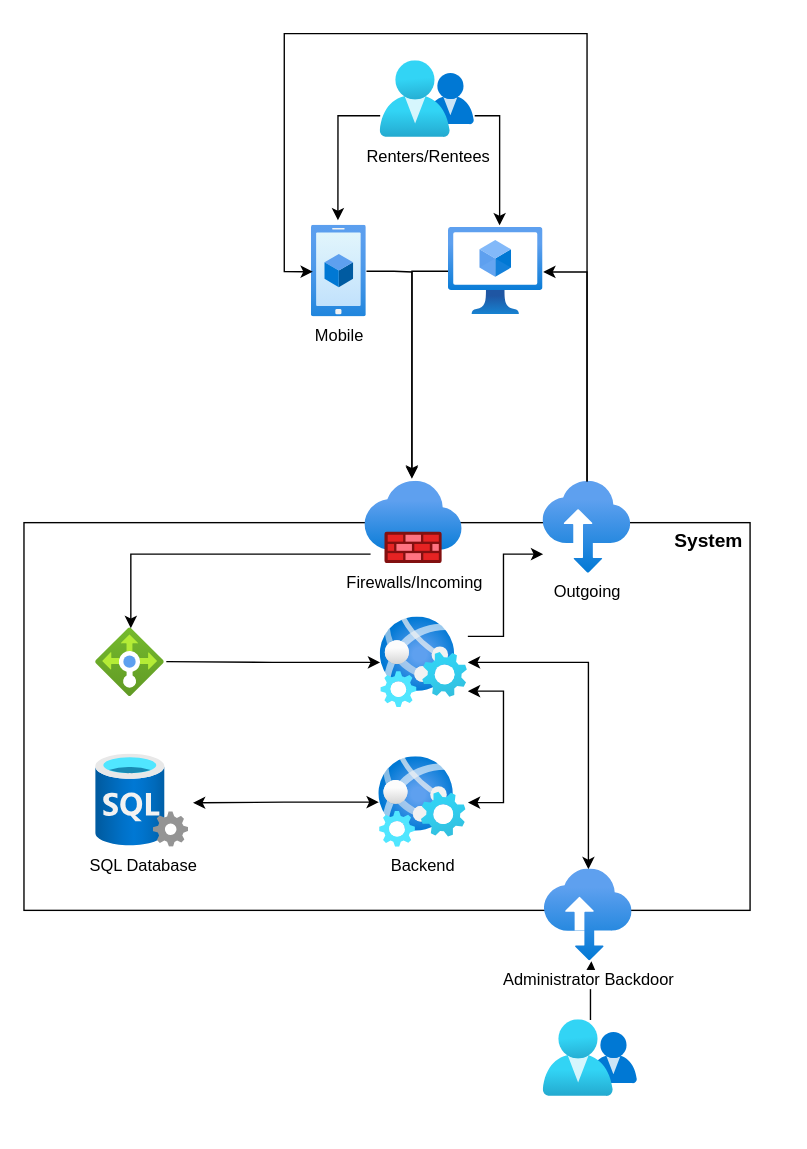
Image size: 807x1149. Some labels were removed from this diagram. Each missing label, with the box of its shape:
Administrators: (543, 1019, 637, 1096)
Computer: (448, 227, 543, 314)
Frontend: (379, 616, 467, 707)
Load Balancers: (95, 627, 164, 696)
